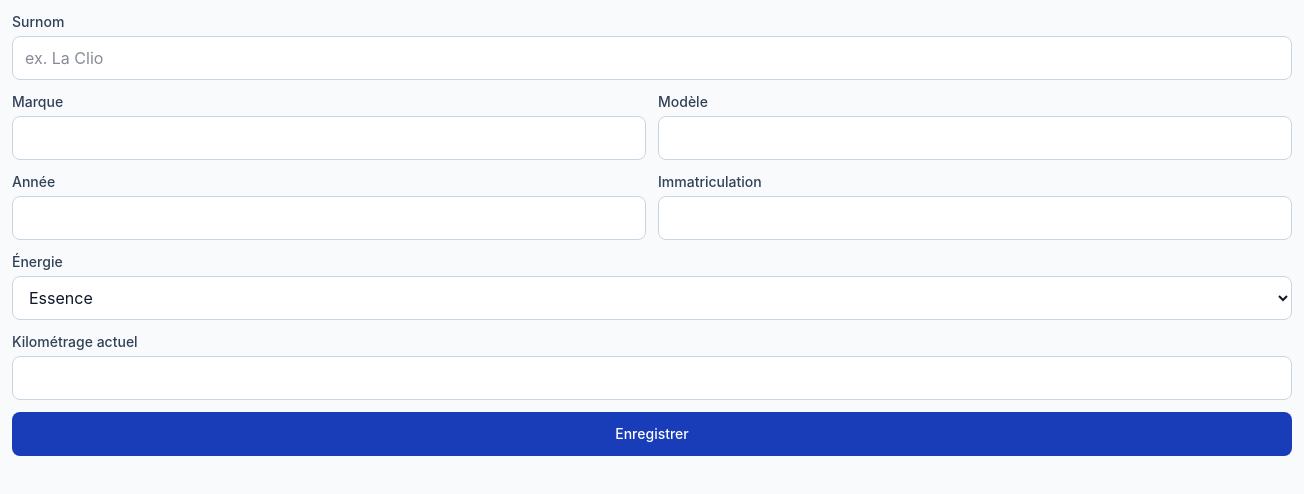
it: rejects a negative odometer
Type "Clio" into the field labelled "Surnom" at {"x": 652, "y": 58}, box [12,36,1292,80]
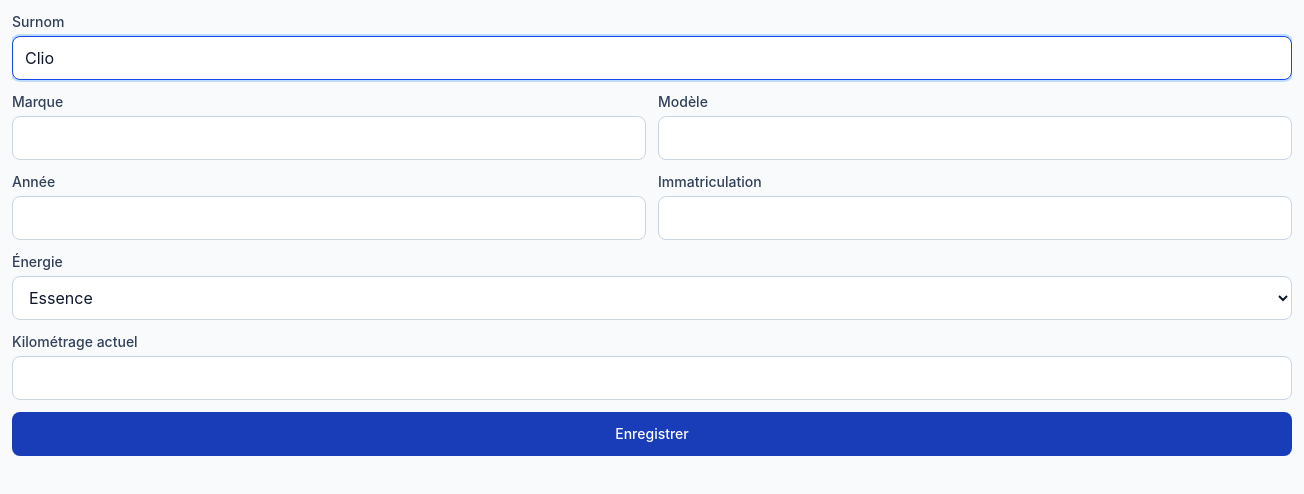
Type "-5" into the field labelled "Kilométrage actuel" at {"x": 652, "y": 378}, box [12,356,1292,400]
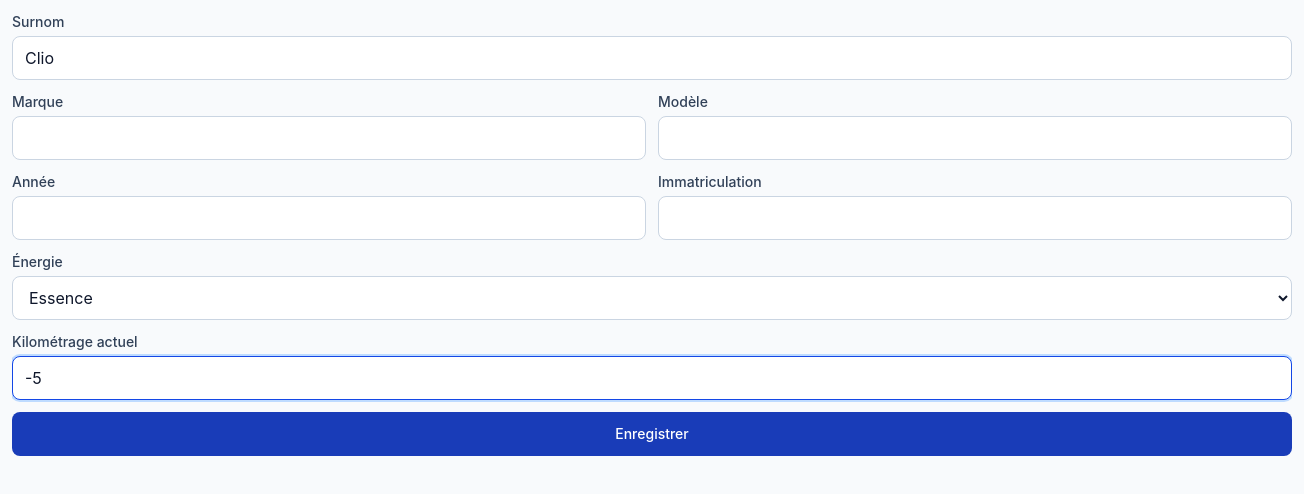
Click the button "Enregistrer" at {"x": 652, "y": 434}, box [12,412,1292,456]
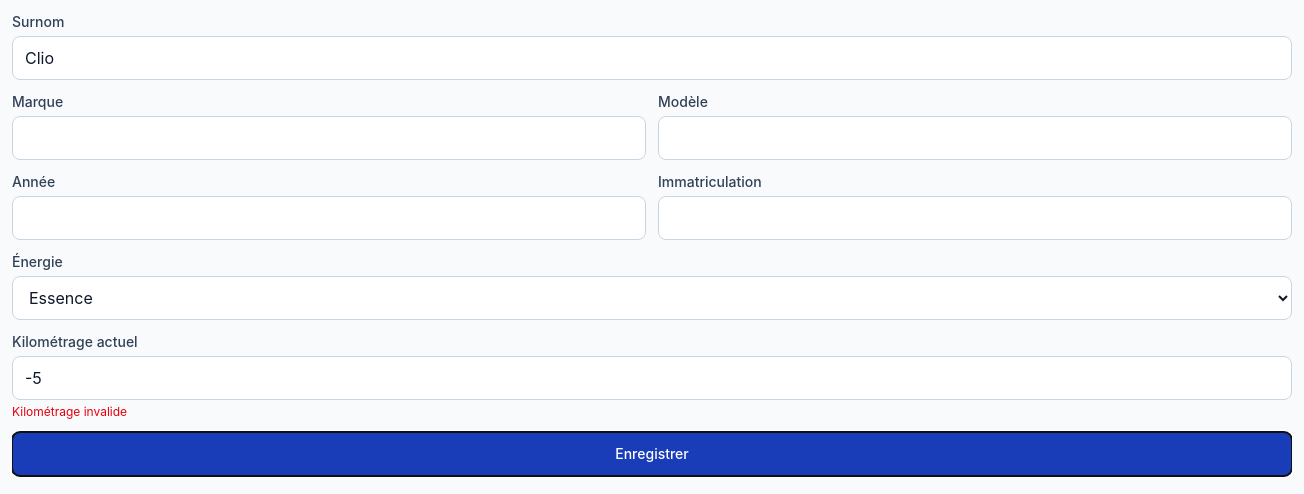
Expected: the text "Kilométrage invalide" is shown, [12,404,127,419]
